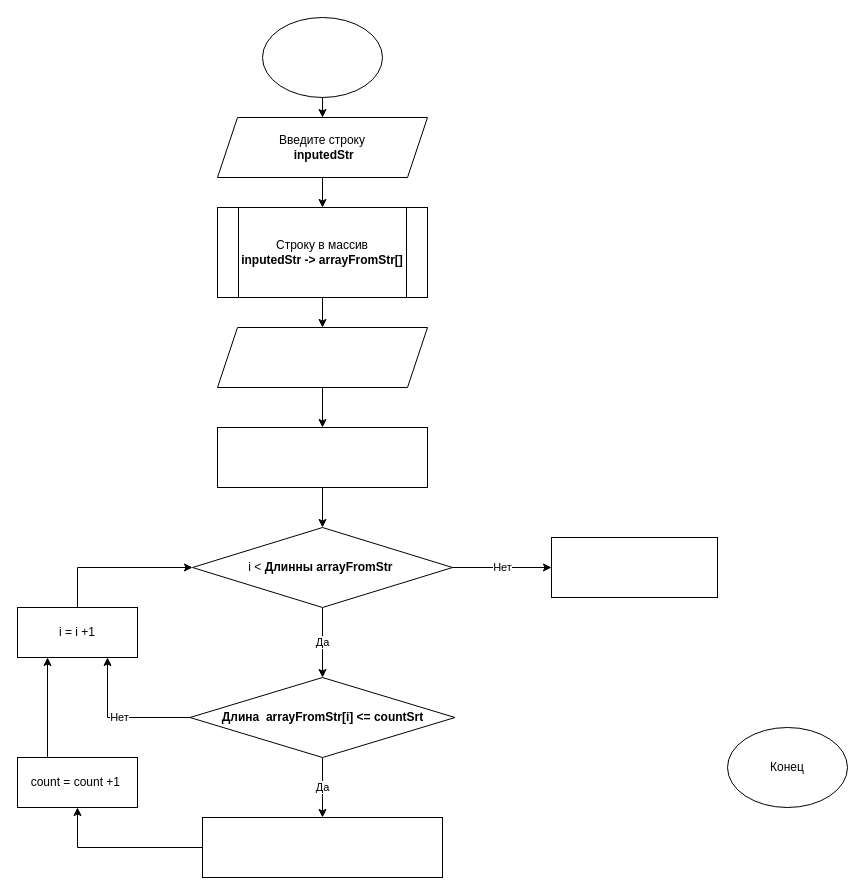
The diagram is 865 pixels wide and 895 high, and some of its shapes have lost their labels. Each missing label, with the centre of its shape:
"countSrt, arrayFromStr[], i=0, count = 0 selectIndexs[]" belongs at point (322, 457).
"selectIndexs[count] = arrayFromStr[i]" belongs at point (322, 847).
"Введите число для отбора countSrt" belongs at point (322, 357).
"Начало" belongs at point (322, 57).
